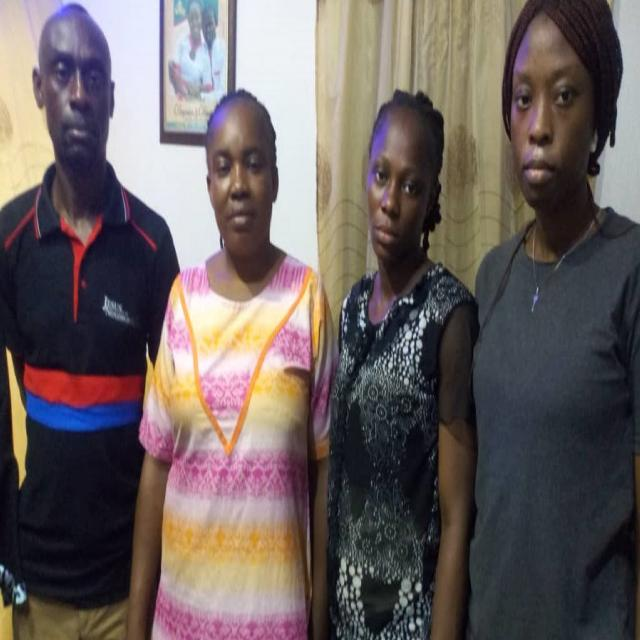sad: (503, 9, 601, 211), (28, 2, 121, 174), (197, 86, 280, 261), (366, 104, 432, 267)
